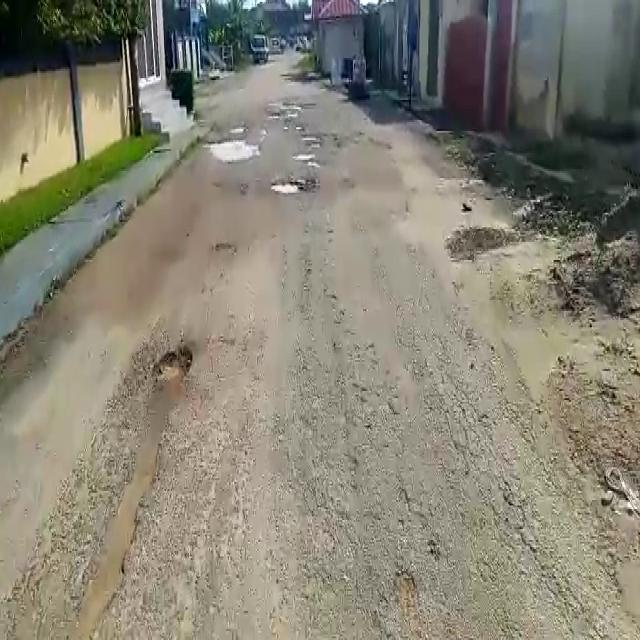Pothole: (205, 135, 262, 165), (156, 346, 192, 391), (267, 179, 308, 197), (214, 241, 241, 258)
